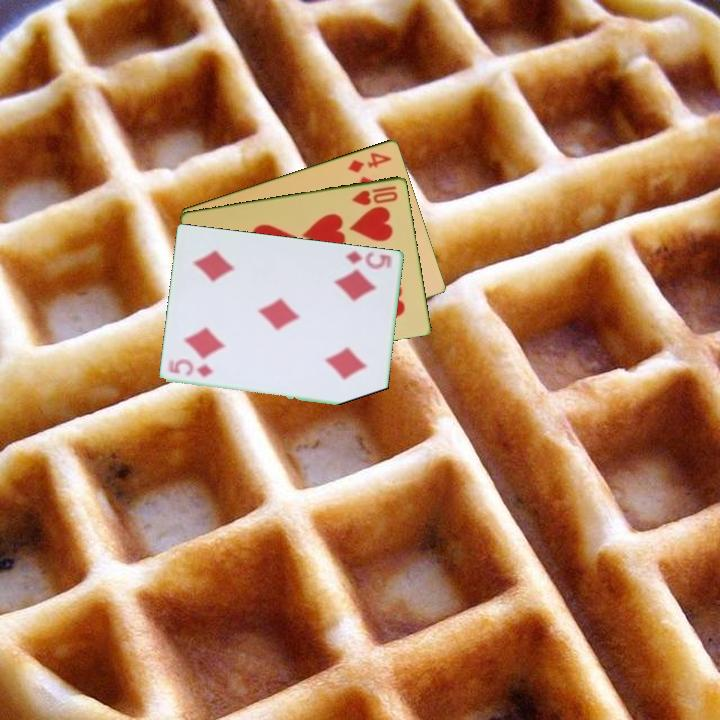10h: (348, 182, 401, 208)
4d: (344, 149, 395, 175)
5d: (342, 247, 396, 272), (165, 358, 216, 380)
